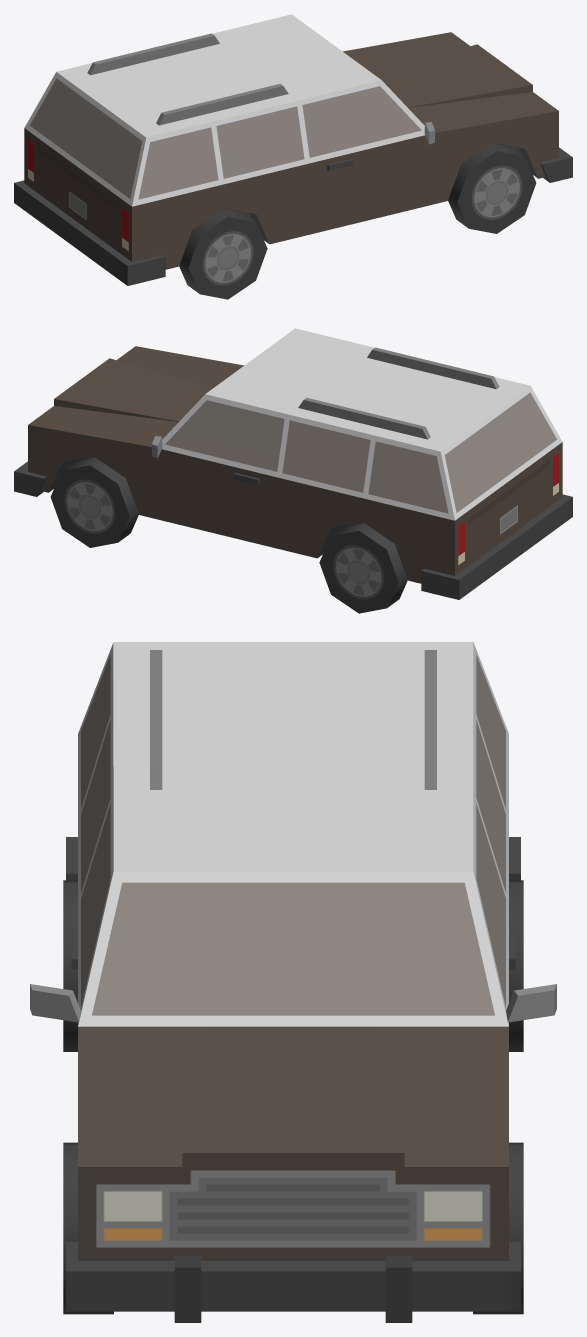
The model's file is west_che06.FBX.
The picture shows the model from 3 angles, top to bottom: view 1: azimuth 30°, elevation 25°; view 2: azimuth 150°, elevation 25°; view 3: azimuth 270°, elevation 25°; orthographic projection. The views are drawn at different scales.
Parts seen in each view (by area): view 1: west_che06; view 2: west_che06; view 3: west_che06.
Boxes of the visible parts, x1,y1,x2,y2 form: west_che06: [14, 14, 572, 299]; west_che06: [14, 328, 572, 613]; west_che06: [30, 642, 556, 1322].
Size of the model in its own units: 1231 by 469 by 625.
